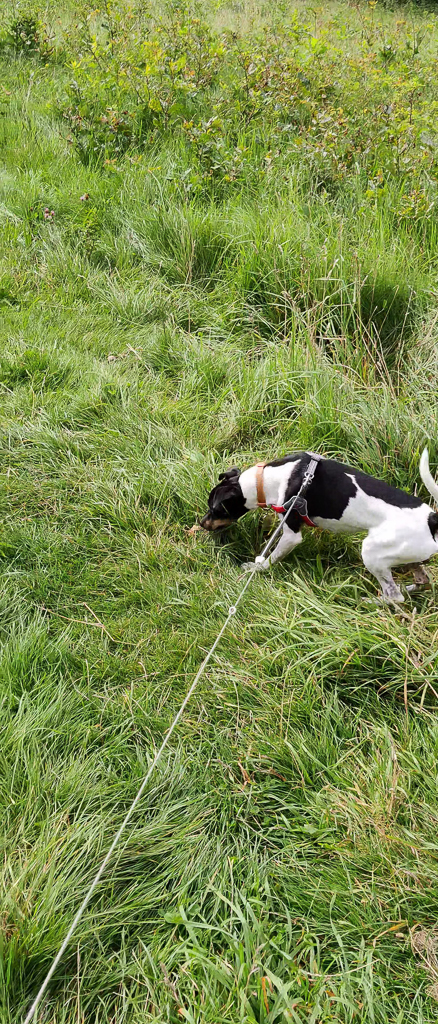Dog: (182, 430, 438, 619)
